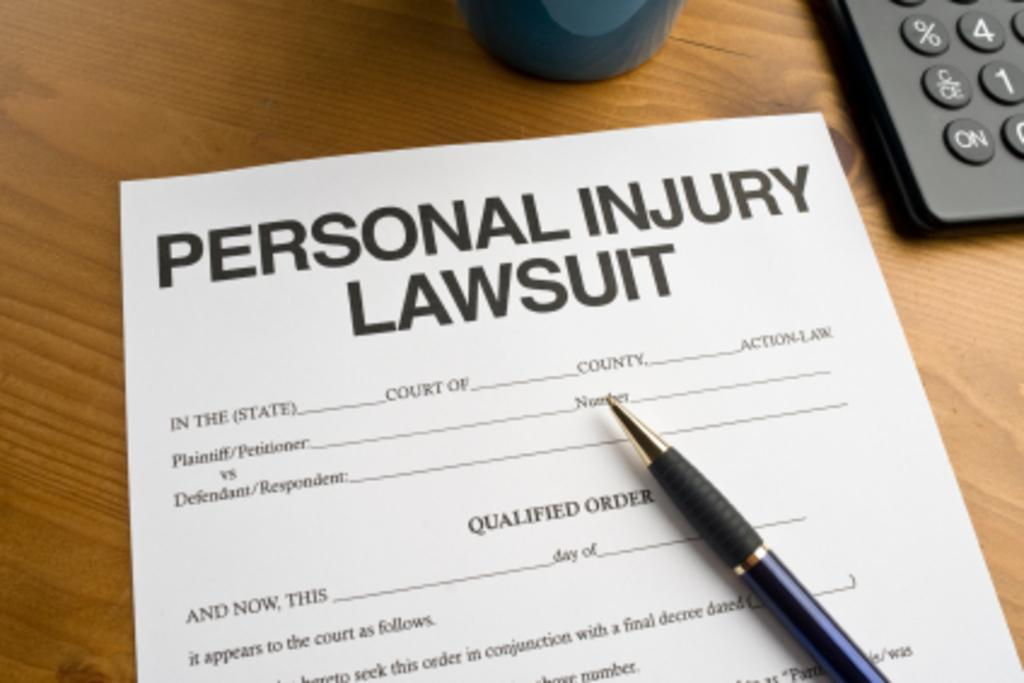pen: (609, 396, 898, 681)
